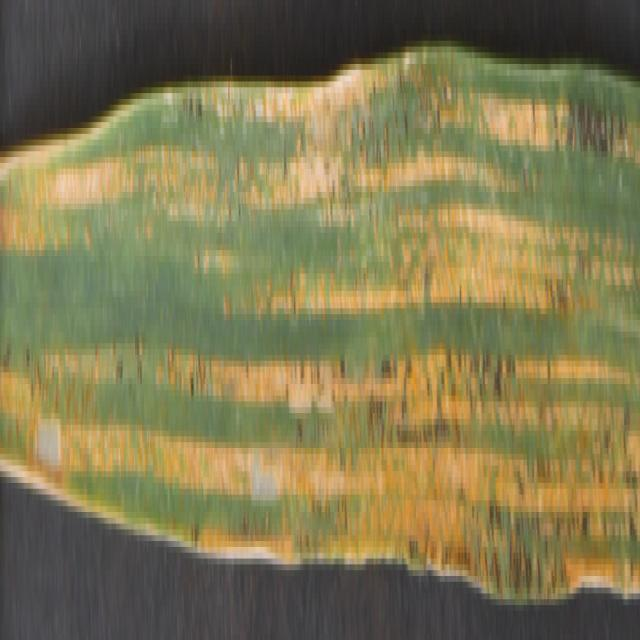leaf rust: (1, 82, 638, 588)
